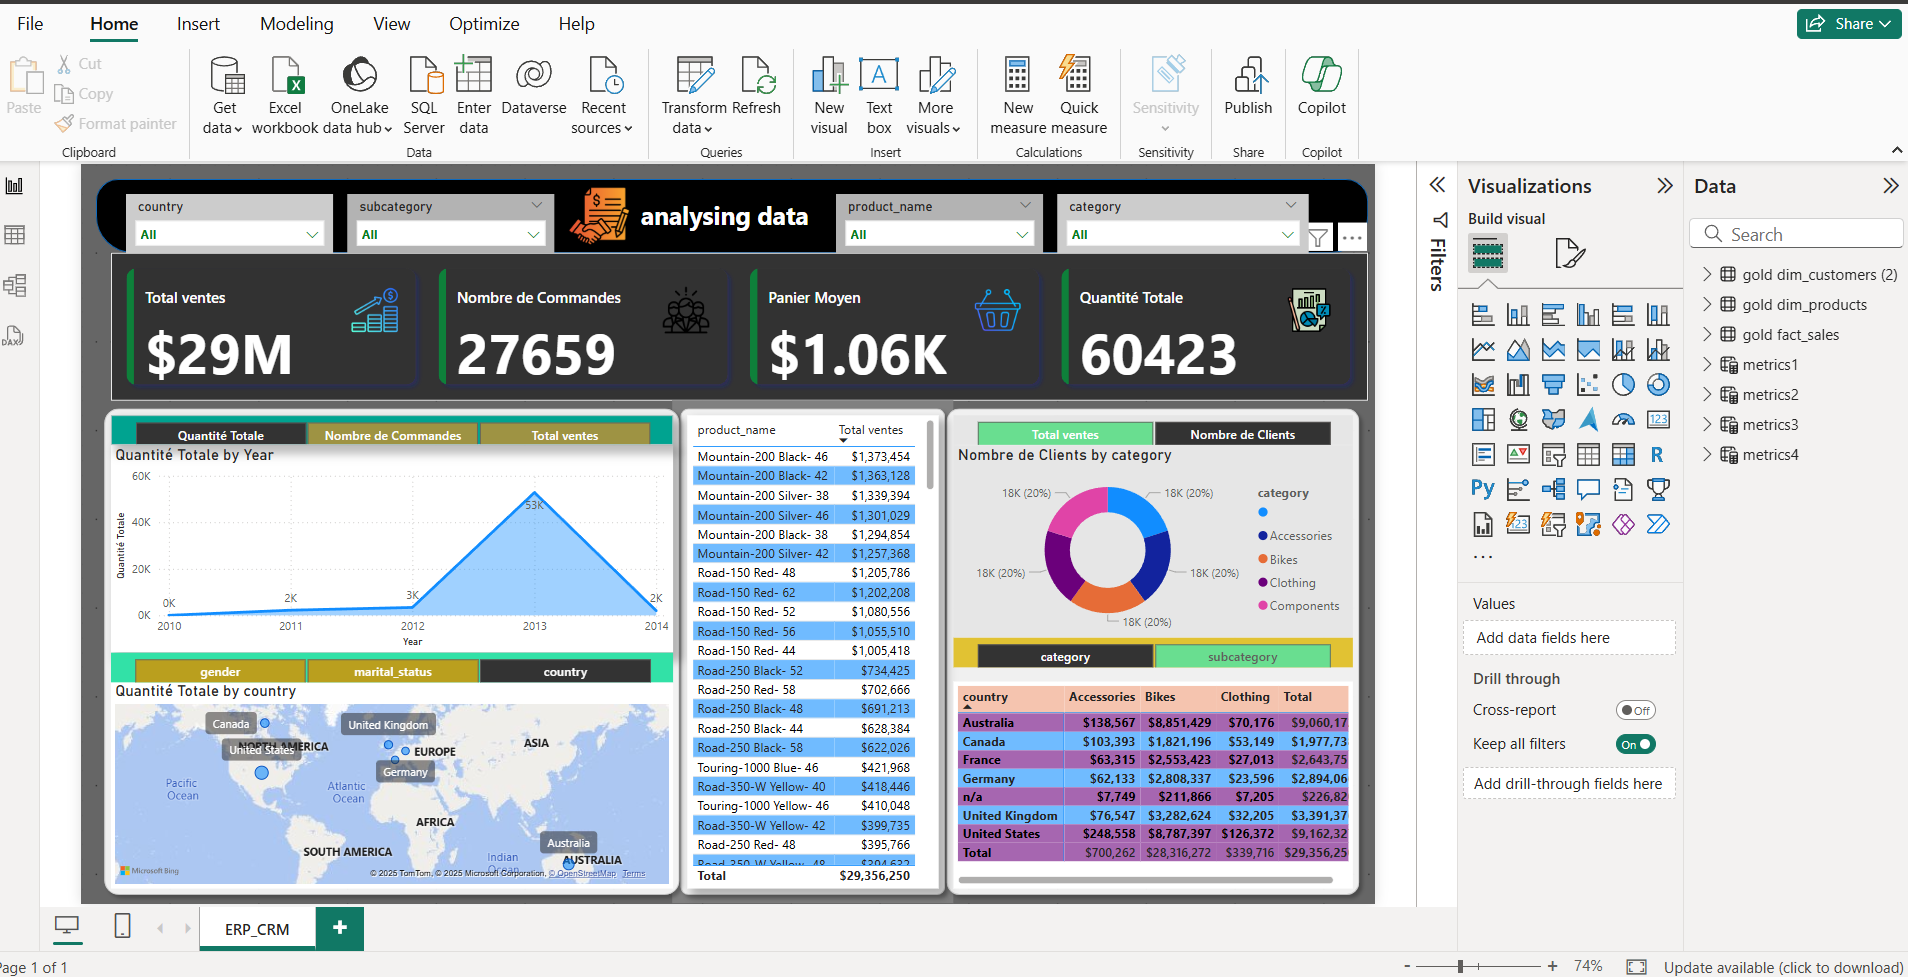

This screenshot's page, from the dashboard's own definition file:
{"tool":"powerbi","page":{"name":"Page 1","canvas":[1400,800],"ordinal":0},"visuals":[{"type":"group","id":"g1","title":"Group 1","box":[16,16,1376,80],"z":0},{"type":"shape","box":[16,16,1376,80],"z":0,"group":"g1"},{"type":"image","box":[512,16,96,80],"z":1000},{"type":"textbox","box":[592,32,208,48],"z":1000,"group":"g1"},{"type":"shape","box":[16,256,640,544],"z":1000,"group":"g2"},{"type":"cardVisual","fields":{"Data":["gold fact_sales.Total ventes","gold fact_sales.Nombre de Commandes","gold fact_sales.Panier Moyen","gold fact_sales.Quantité Totale"]},"box":[32,96,1360,160],"z":2000},{"type":"shape","box":[640,256,304,544],"z":3000},{"type":"areaChart","fields":{"Y":["gold fact_sales.Quantité Totale"],"Category":["gold fact_sales.order_date.Variation.Date Hierarchy.Year","gold fact_sales.order_date.Variation.Date Hierarchy.Quarter","gold fact_sales.order_date.Variation.Date Hierarchy.Month","gold fact_sales.order_date.Variation.Date Hierarchy.Day"]},"box":[32,304,608,224],"z":3000,"group":"g2"},{"type":"group","id":"g2","title":"Group 2","box":[16,256,640,544],"z":4000},{"type":"shape","box":[928,256,464,544],"z":5000},{"type":"slicer","fields":{"Values":["metrics1.metrics1"]},"box":[32,272,608,32],"z":5000,"group":"g2"},{"type":"tableEx","fields":{"Values":["gold dim_products.product_name","gold fact_sales.Total ventes"]},"box":[656,272,272,512],"z":6000},{"type":"map","fields":{"Size":["gold fact_sales.Quantité Totale"],"Category":["gold dim_customers (2).country"]},"box":[32,560,608,224],"z":7000},{"type":"slicer","fields":{"Values":["metrics2.metrics2"]},"box":[32,528,608,32],"z":8000},{"type":"donutChart","fields":{"Category":["gold dim_products.category"],"Y":["gold dim_customers (2).Nombre de Clients"]},"box":[944,304,432,208],"z":9000},{"type":"slicer","fields":{"Values":["metrics3.metrics3"]},"box":[944,512,432,32],"z":10000},{"type":"slicer","fields":{"Values":["metrics4.metrics4"]},"box":[944,272,432,32],"z":11000},{"type":"pivotTable","fields":{"Rows":["gold dim_customers (2).country"],"Columns":["gold dim_products.category"],"Values":["gold fact_sales.Total ventes"]},"box":[944,560,432,224],"z":12000},{"type":"slicer","fields":{"Values":["gold dim_customers (2).country"]},"box":[48,32,224,64],"z":12001},{"type":"slicer","fields":{"Values":["gold dim_products.product_name"]},"box":[816,32,224,64],"z":12002},{"type":"slicer","fields":{"Values":["gold dim_products.category"]},"box":[1056,32,272,64],"z":12003},{"type":"slicer","fields":{"Values":["gold dim_products.subcategory"]},"box":[288,32,224,64],"z":12004}]}

Visuals, with their boxes on the page's 1400x800 design canvas (x1, y1, x2, y2). These are canvas units, not pixel positions in the 1908x977 screenshot, which may show the page scaled, cropped or inside an application window:
"Group 1" group: x1=16 y1=16 x2=1392 y2=96
shape: x1=16 y1=16 x2=1392 y2=96
image: x1=512 y1=16 x2=608 y2=96
textbox: x1=592 y1=32 x2=800 y2=80
shape: x1=16 y1=256 x2=656 y2=800
cardVisual - gold fact_sales.Total ventes x gold fact_sales.Nombre de Commandes: x1=32 y1=96 x2=1392 y2=256
shape: x1=640 y1=256 x2=944 y2=800
areaChart - gold fact_sales.Quantité Totale x gold fact_sales.order_date.Variation.Date Hierarchy.Year: x1=32 y1=304 x2=640 y2=528
"Group 2" group: x1=16 y1=256 x2=656 y2=800
shape: x1=928 y1=256 x2=1392 y2=800
slicer - metrics1.metrics1: x1=32 y1=272 x2=640 y2=304
tableEx - gold dim_products.product_name x gold fact_sales.Total ventes: x1=656 y1=272 x2=928 y2=784
map - gold fact_sales.Quantité Totale x gold dim_customers (2).country: x1=32 y1=560 x2=640 y2=784
slicer - metrics2.metrics2: x1=32 y1=528 x2=640 y2=560
donutChart - gold dim_products.category x gold dim_customers (2).Nombre de Clients: x1=944 y1=304 x2=1376 y2=512
slicer - metrics3.metrics3: x1=944 y1=512 x2=1376 y2=544
slicer - metrics4.metrics4: x1=944 y1=272 x2=1376 y2=304
pivotTable - gold dim_customers (2).country x gold dim_products.category: x1=944 y1=560 x2=1376 y2=784
slicer - gold dim_customers (2).country: x1=48 y1=32 x2=272 y2=96
slicer - gold dim_products.product_name: x1=816 y1=32 x2=1040 y2=96
slicer - gold dim_products.category: x1=1056 y1=32 x2=1328 y2=96
slicer - gold dim_products.subcategory: x1=288 y1=32 x2=512 y2=96
